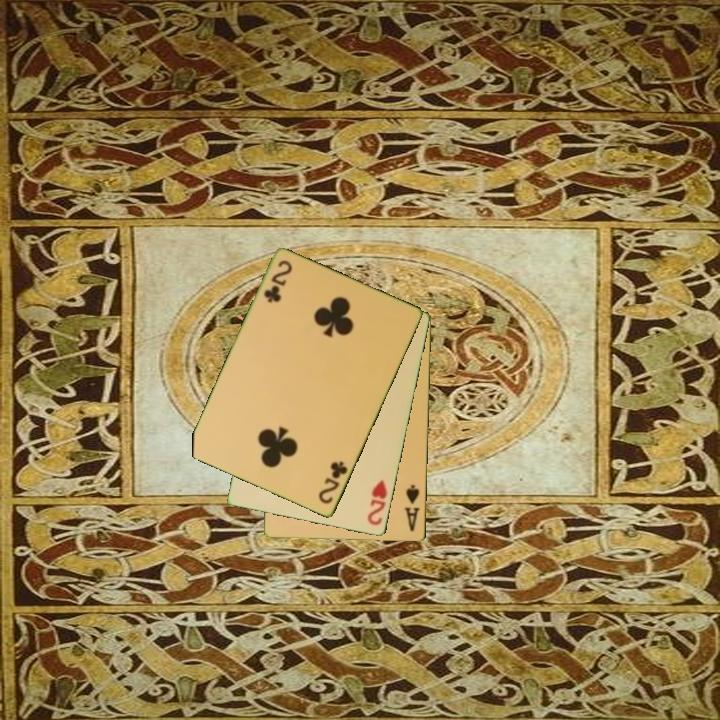2c: (315, 458, 351, 507), (260, 257, 295, 306)
2h: (364, 476, 390, 529)
As: (402, 481, 423, 535)
